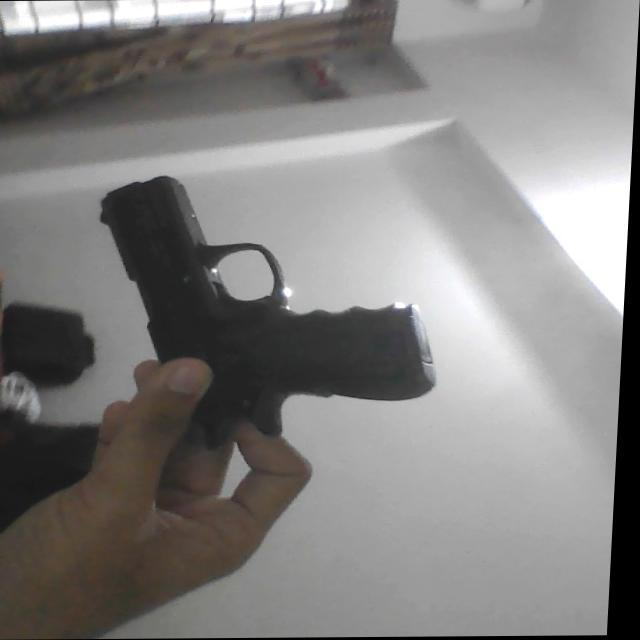handgun: (88, 175, 455, 451)
